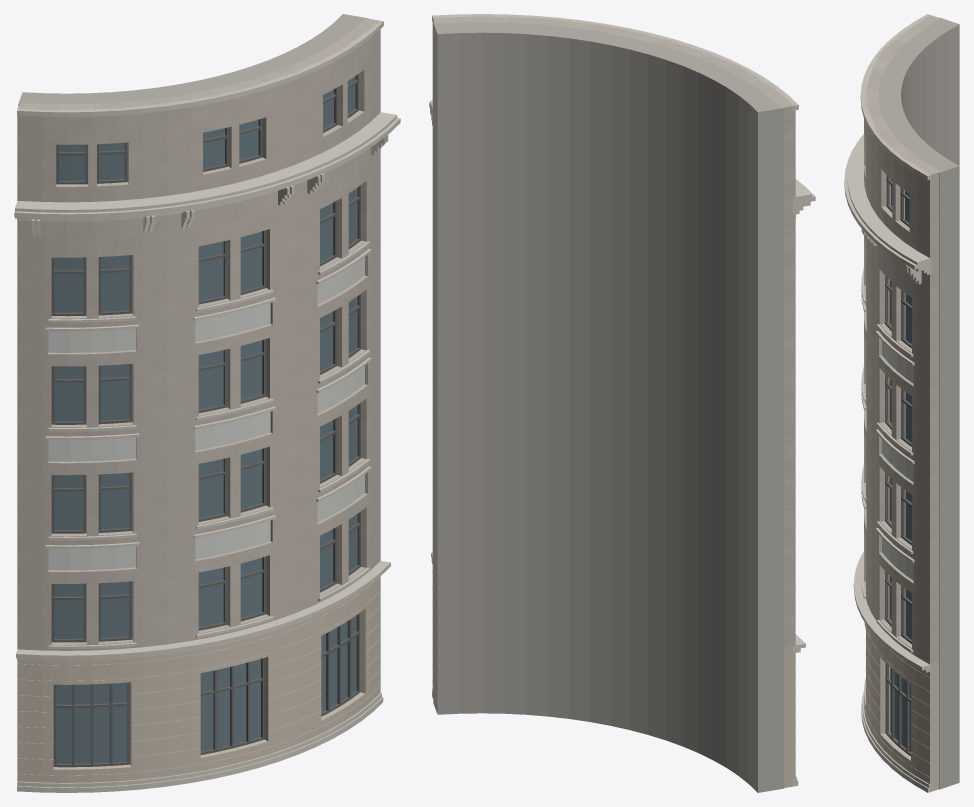
The model's file is huangpu-zhongxing-bank-curved-front-lod.glb.
The picture shows the model from 3 angles, left to right: view 1: azimuth 30°, elevation 25°; view 2: azimuth 150°, elevation 25°; view 3: azimuth 270°, elevation 25°; orthographic projection. The views are drawn at different scales.
Parts seen in each view (by area): view 1: 中兴银行前楼（福州路与四川中路圆弧窗墙）; view 2: 中兴银行前楼（福州路与四川中路圆弧窗墙）; view 3: 中兴银行前楼（福州路与四川中路圆弧窗墙）.
Part boxes in pixels (left/top/right/bottom): 中兴银行前楼（福州路与四川中路圆弧窗墙）: left=14, top=14, right=400, bottom=792; 中兴银行前楼（福州路与四川中路圆弧窗墙）: left=429, top=14, right=815, bottom=792; 中兴银行前楼（福州路与四川中路圆弧窗墙）: left=844, top=14, right=959, bottom=792.
Size of the model in its own units: 12.86 by 21.66 by 3.67.
Materials: 7 (1 with a texture image).
